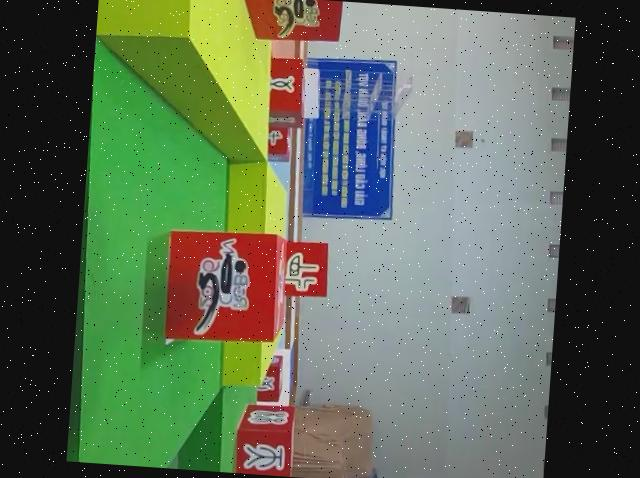R1: (159, 224, 291, 350), (225, 0, 345, 47)
R2 Fake: (232, 400, 298, 477)
R2 Real: (258, 53, 310, 132), (272, 237, 333, 302)
